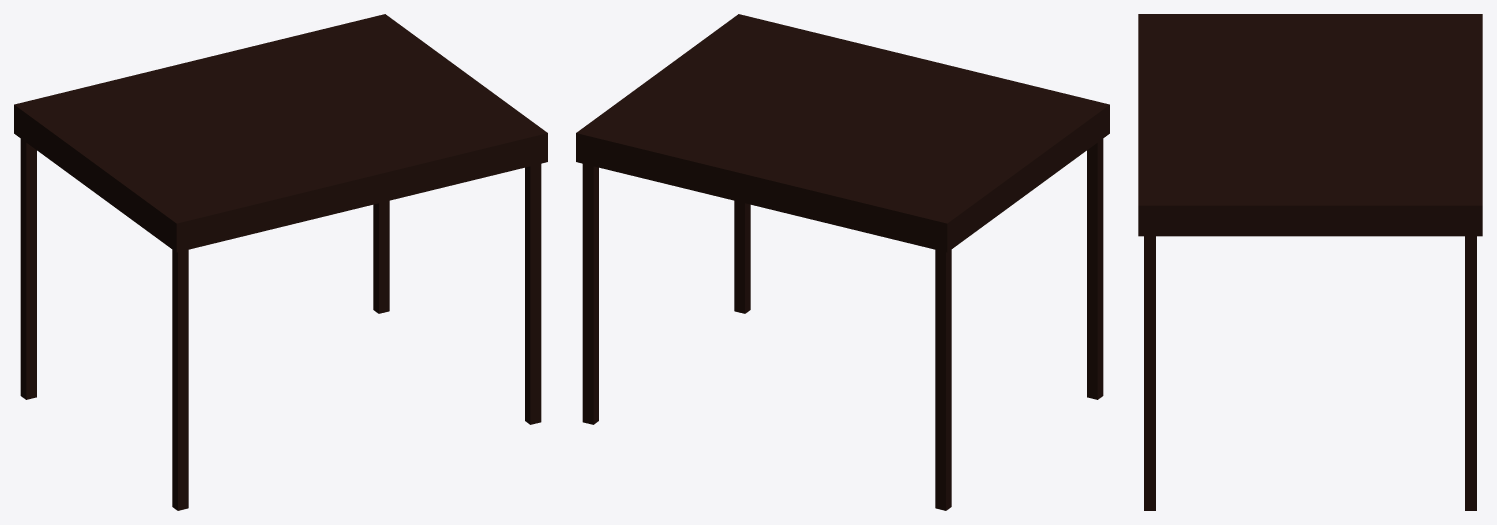
The model's file is table.FBX.
The picture shows the model from 3 angles, left to right: view 1: azimuth 30°, elevation 25°; view 2: azimuth 150°, elevation 25°; view 3: azimuth 270°, elevation 25°; orthographic projection. The views are drawn at different scales.
Visible parts, largest first — view 1: Box001; view 2: Box001; view 3: Box001.
Boxes of the visible parts, box(x1,y1,x2,y2) form: Box001: box(14, 14, 547, 510); Box001: box(576, 14, 1109, 510); Box001: box(1138, 14, 1482, 510).
Size of the model in its own units: 25.32 by 18.92 by 19.21.
